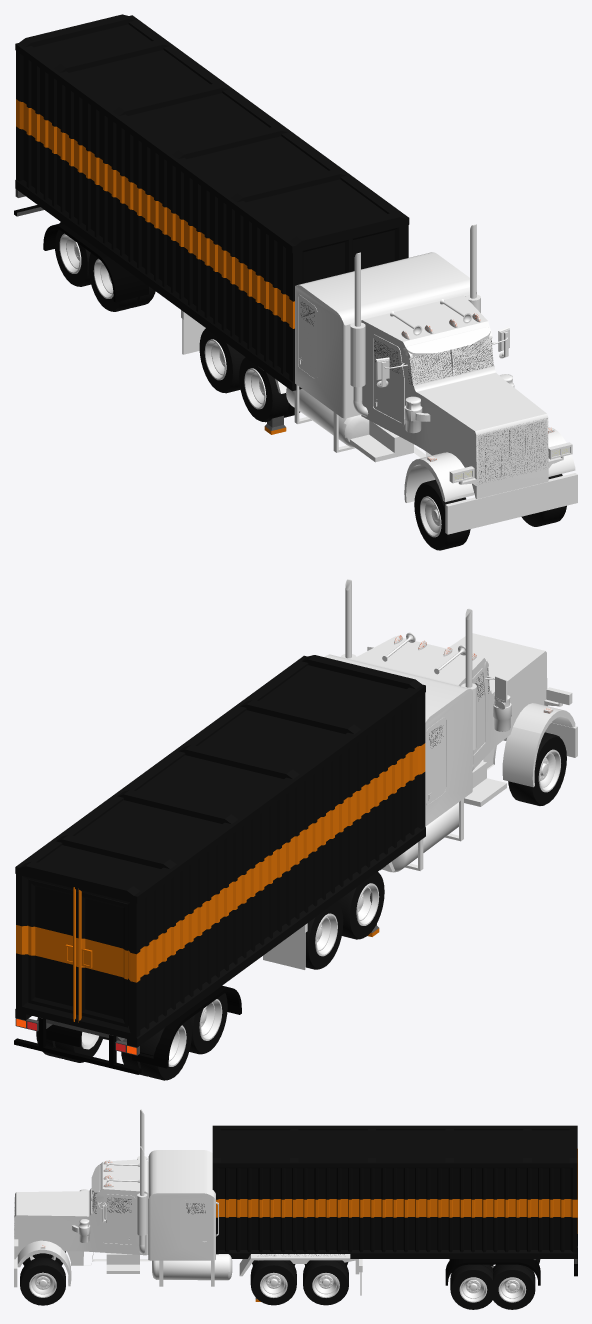
The model's file is TheTruck.fbx.
3 views of the same model, one above another, from view 1: azimuth 30°, elevation 25°; view 2: azimuth 150°, elevation 25°; view 3: azimuth 270°, elevation 25° (orthographic). The views are drawn at different scales.
Visible parts, largest first — view 1: Trailer, TheTruck, Wheel_FR, Wheel_RR1, Wheel_RR, Wheel_RR__2_, Wheel_RR__1_; view 2: Trailer, TheTruck, Door_L, Door_R, Wheel_FR, Wheel_RR1, Wheel_RR, Wheel_RR__2_, Wheel_RR__1_, Wheel_RL1__2_; view 3: Trailer, TheTruck, Wheel_RL, Wheel_FL, Wheel_RL1, Wheel_RL1__1_, Wheel_RL1__2_.
Part boxes in pixels (<box>): Trailer: <box>14,14,409,391</box>; TheTruck: <box>181,224,577,534</box>; Wheel_FR: <box>414,479,470,550</box>; Wheel_RR1: <box>239,357,299,422</box>; Wheel_RR: <box>199,328,245,393</box>; Wheel_RR__2_: <box>55,222,91,286</box>; Wheel_RR__1_: <box>88,253,155,311</box>; Trailer: <box>14,655,425,1074</box>; TheTruck: <box>263,579,577,969</box>; Door_L: <box>28,879,78,1021</box>; Door_R: <box>78,888,128,1027</box>; Wheel_FR: <box>508,732,566,805</box>; Wheel_RR1: <box>337,872,384,939</box>; Wheel_RR: <box>305,902,343,969</box>; Wheel_RR__2_: <box>121,1019,191,1080</box>; Wheel_RR__1_: <box>189,993,227,1054</box>; Wheel_RL1__2_: <box>36,1017,103,1062</box>; Trailer: <box>212,1125,577,1285</box>; TheTruck: <box>14,1109,362,1295</box>; Wheel_RL: <box>250,1260,296,1305</box>; Wheel_FL: <box>20,1257,65,1305</box>; Wheel_RL1: <box>303,1260,348,1305</box>; Wheel_RL1__1_: <box>450,1264,492,1309</box>; Wheel_RL1__2_: <box>493,1264,535,1309</box>.
Bounding box in the file's own units: 279 × 472 × 1479.
